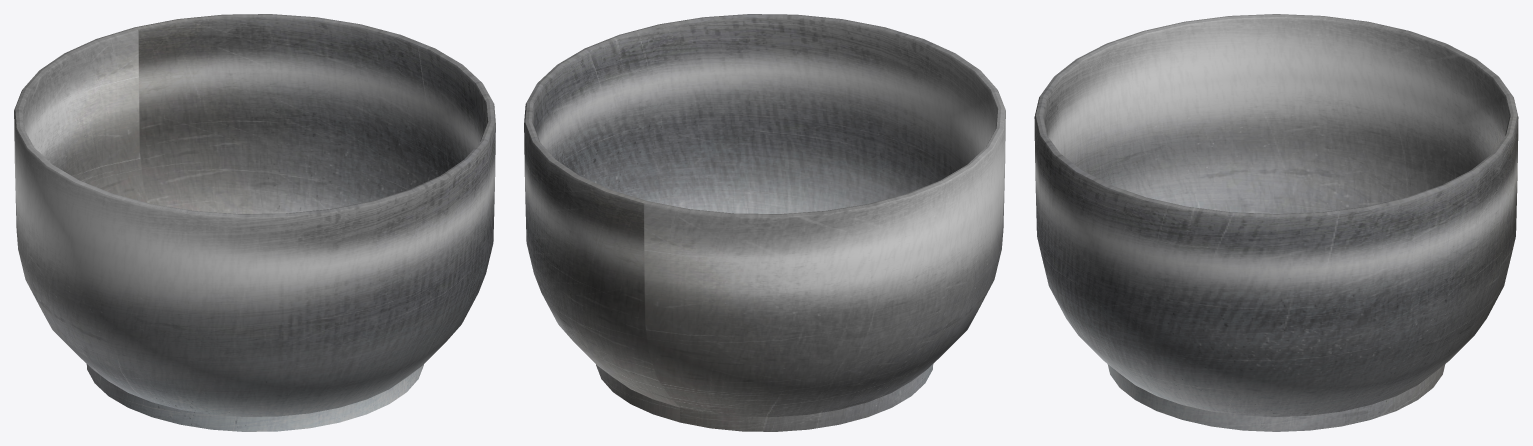
File: bowlbatidora.fbx
The picture shows the model from 3 angles, left to right: view 1: azimuth 30°, elevation 25°; view 2: azimuth 150°, elevation 25°; view 3: azimuth 270°, elevation 25°; orthographic projection.
Visible parts, largest first — view 1: Cylinder; view 2: Cylinder; view 3: Cylinder.
Part boxes in pixels (x1,y1,x2,y2): Cylinder: (14,14,495,431); Cylinder: (524,14,1005,431); Cylinder: (1034,14,1518,431).
Size of the model in its own units: 18.23 by 10.25 by 18.28.
Materials: 1 (1 with a texture image).
